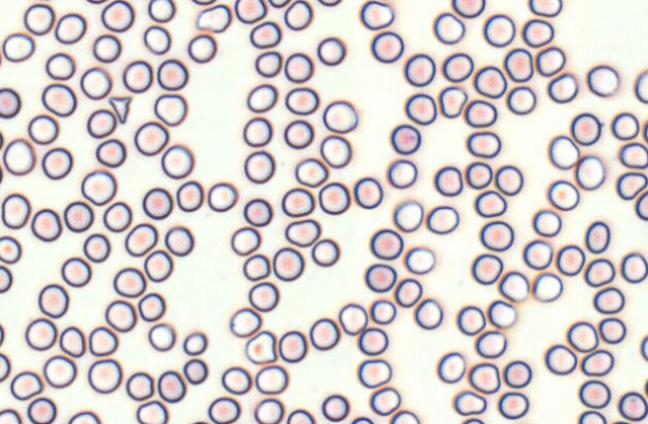RBC: (81, 169, 116, 205), (2, 137, 35, 175), (87, 358, 122, 393), (160, 143, 194, 179), (322, 99, 358, 133), (41, 83, 76, 117), (42, 354, 77, 388), (134, 120, 168, 155), (124, 222, 157, 256), (153, 93, 187, 126), (473, 65, 507, 98), (370, 30, 404, 63), (482, 13, 515, 47), (272, 246, 304, 281), (432, 11, 465, 44), (586, 64, 619, 97), (100, 0, 134, 32), (369, 228, 403, 260), (319, 134, 351, 168), (548, 134, 579, 169), (575, 154, 605, 190), (1, 192, 30, 229), (25, 317, 57, 350), (104, 299, 136, 332), (403, 53, 435, 86), (318, 181, 350, 214), (243, 150, 275, 183), (479, 220, 513, 251), (357, 358, 392, 388), (38, 283, 68, 318), (359, 0, 394, 30), (503, 47, 533, 82), (284, 218, 320, 247), (41, 147, 73, 179), (54, 12, 86, 44), (156, 58, 188, 90), (471, 253, 503, 285), (404, 93, 436, 125), (23, 2, 54, 35), (80, 66, 111, 99), (2, 31, 35, 62), (544, 344, 577, 375), (570, 112, 601, 145), (294, 157, 328, 187), (122, 59, 152, 93), (284, 86, 319, 115), (27, 113, 59, 144), (498, 270, 529, 302), (566, 321, 598, 352), (468, 362, 500, 393), (547, 179, 579, 210), (392, 200, 423, 232), (255, 364, 288, 394), (143, 249, 173, 282), (113, 267, 146, 297), (31, 208, 61, 241), (281, 187, 314, 217), (309, 317, 339, 350), (338, 302, 368, 335), (426, 204, 459, 234), (353, 176, 383, 209), (466, 130, 501, 158), (248, 281, 279, 312), (390, 123, 421, 154), (547, 72, 578, 103), (207, 181, 238, 212), (10, 370, 42, 400), (229, 307, 261, 337), (436, 351, 466, 383), (413, 297, 443, 329), (142, 187, 172, 219), (441, 52, 473, 82), (438, 85, 467, 118), (521, 18, 554, 47), (463, 99, 497, 127), (61, 256, 91, 287), (102, 201, 132, 232), (63, 201, 93, 232), (532, 272, 563, 302), (584, 257, 615, 287), (522, 239, 553, 269), (164, 225, 194, 256), (283, 119, 314, 149), (386, 158, 417, 188), (433, 165, 463, 196), (242, 116, 272, 147), (246, 83, 277, 113), (369, 386, 401, 415), (578, 379, 610, 408), (474, 329, 506, 358), (157, 370, 186, 402), (364, 263, 396, 292), (556, 244, 585, 276), (278, 330, 307, 362), (86, 108, 116, 138), (88, 326, 118, 356), (187, 33, 217, 63), (506, 85, 536, 115), (535, 46, 565, 76), (616, 171, 647, 200), (230, 226, 261, 255), (95, 138, 126, 167), (456, 304, 485, 335), (404, 245, 435, 274), (494, 164, 523, 195), (284, 52, 313, 83), (497, 391, 529, 419), (593, 286, 625, 314), (474, 189, 506, 217), (249, 20, 281, 48), (207, 396, 240, 423), (581, 349, 614, 376), (618, 391, 647, 421), (487, 299, 516, 329), (45, 51, 75, 80), (283, 0, 312, 30), (316, 36, 346, 65), (357, 327, 388, 355), (176, 180, 203, 212), (125, 371, 154, 400), (92, 33, 121, 62), (243, 197, 272, 226), (394, 277, 422, 307), (221, 366, 251, 394), (143, 24, 171, 54), (620, 252, 647, 283), (59, 325, 85, 357), (453, 390, 486, 415), (585, 220, 610, 253), (147, 322, 175, 351), (311, 238, 339, 267), (137, 292, 165, 321), (532, 209, 561, 237), (611, 111, 639, 140), (242, 253, 270, 281), (321, 393, 349, 421), (503, 360, 531, 388), (83, 233, 110, 262), (136, 399, 168, 423), (465, 161, 492, 189), (598, 317, 626, 344), (254, 50, 282, 77), (27, 397, 56, 423), (254, 397, 283, 423), (234, 0, 266, 23), (369, 298, 396, 325), (619, 142, 647, 168), (182, 358, 208, 384), (0, 87, 21, 118), (147, 0, 175, 22), (451, 0, 485, 18), (182, 331, 207, 355), (0, 235, 21, 263), (528, 0, 562, 17), (388, 409, 420, 423), (634, 69, 647, 103), (67, 410, 101, 423), (286, 408, 314, 423), (577, 410, 606, 423), (635, 189, 647, 220), (0, 264, 12, 293), (0, 408, 22, 423), (0, 352, 10, 382), (640, 334, 647, 361), (267, 0, 290, 8), (350, 416, 373, 423), (642, 118, 648, 143), (317, 0, 342, 6), (460, 417, 484, 423), (191, 0, 215, 5), (643, 377, 648, 398), (0, 322, 4, 346), (84, 0, 108, 4), (610, 420, 632, 424), (189, 420, 211, 424), (0, 129, 4, 150), (0, 161, 3, 184)
Schistocyte: (244, 332, 277, 363), (196, 5, 231, 32), (108, 97, 134, 123)
